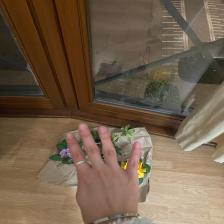four: (61, 122, 143, 220)
